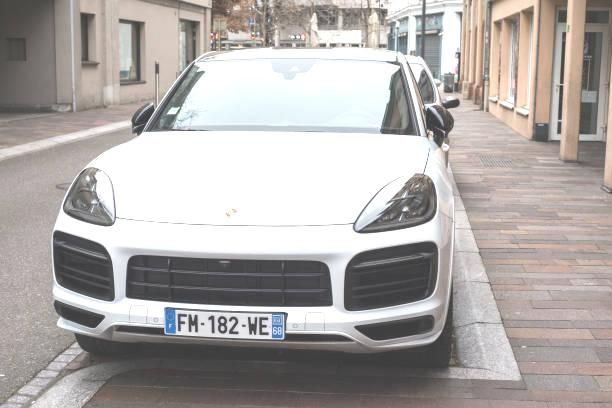porsche: (220, 204, 244, 223)
